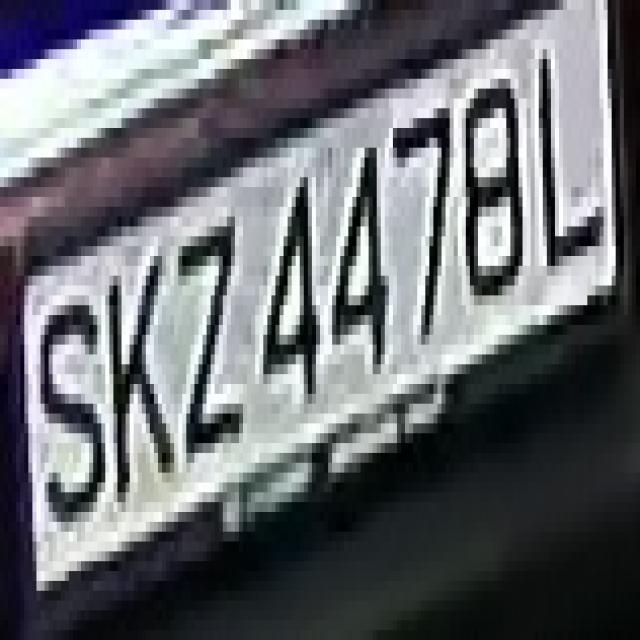4: (304, 108, 397, 394), (243, 167, 328, 443)
7: (380, 89, 458, 394)
8: (454, 59, 538, 355)
K: (93, 266, 182, 532)
L: (534, 20, 620, 295)
S: (33, 236, 106, 532)
Z: (166, 187, 239, 502)
